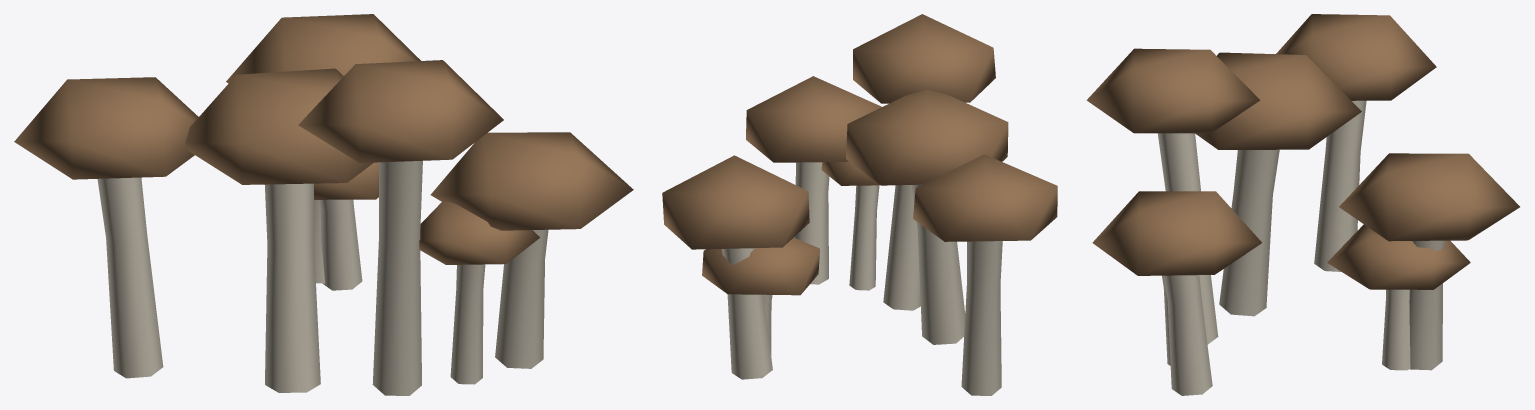
File: brown_mushrooms_1_mid.glb
3 renders of one model, left to right at view 1: azimuth 30°, elevation 25°; view 2: azimuth 150°, elevation 25°; view 3: azimuth 270°, elevation 25°, orthographic. The views are drawn at different scales.
Parts seen in each view (by area): view 1: brown_mushrooms_1_mid; view 2: brown_mushrooms_1_mid; view 3: brown_mushrooms_1_mid.
Part boxes in pixels (x1,y1,x2,y2): brown_mushrooms_1_mid: (14, 14, 633, 395); brown_mushrooms_1_mid: (662, 14, 1057, 395); brown_mushrooms_1_mid: (1086, 14, 1519, 395).
Size of the model in its own units: 0.2759 by 0.1831 by 0.2594.
